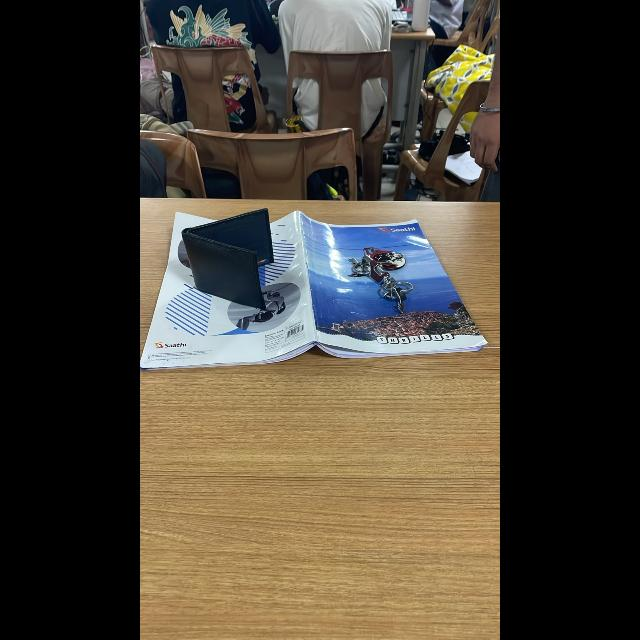wallet: (164, 198, 308, 312)
